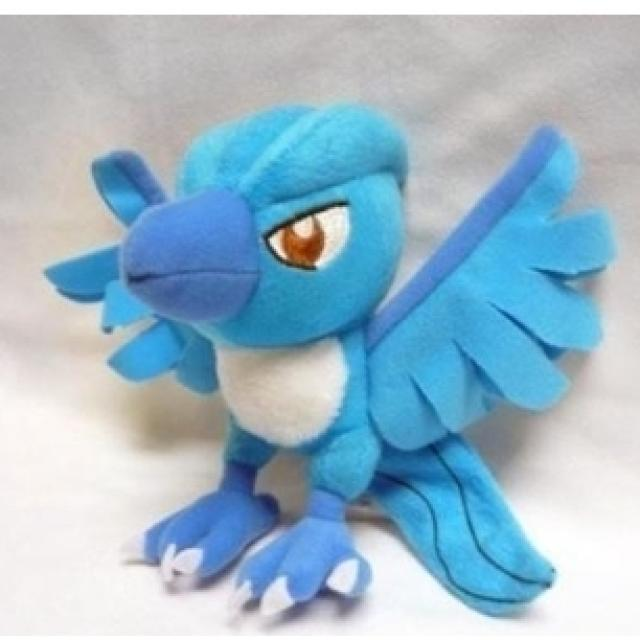Articuno: (113, 109, 600, 614)
